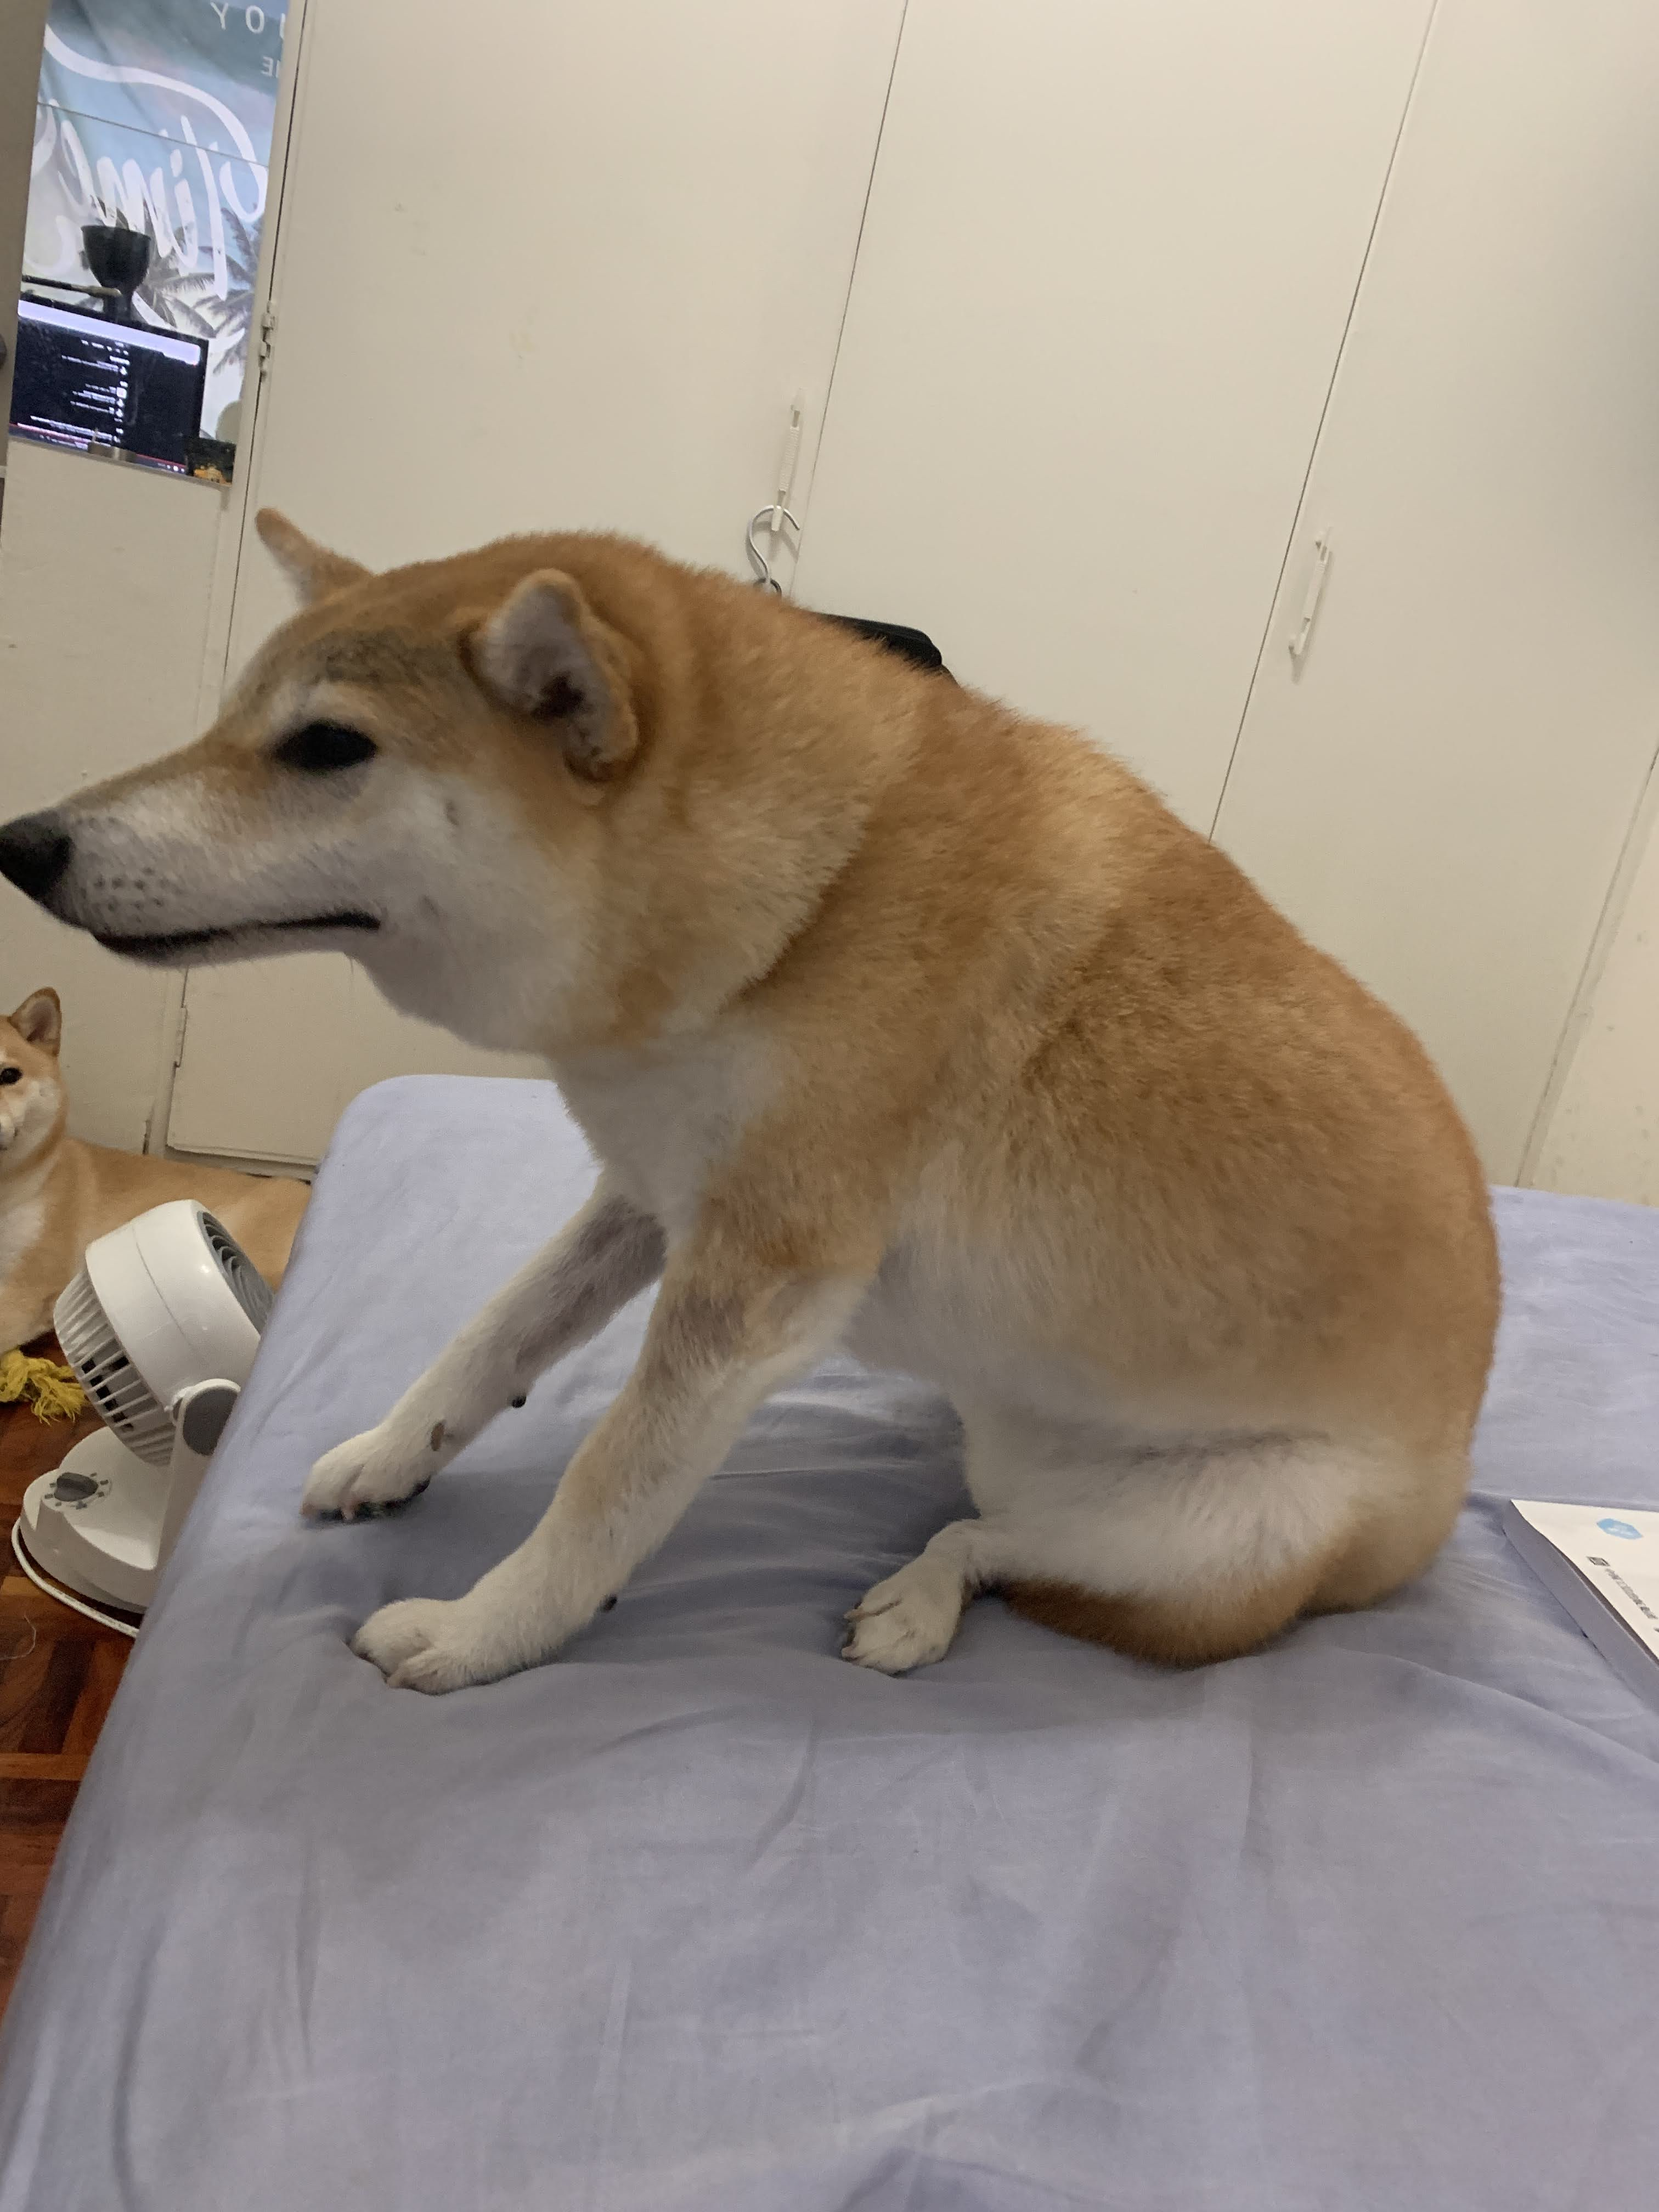Sit down: (19, 455, 1525, 1719)
